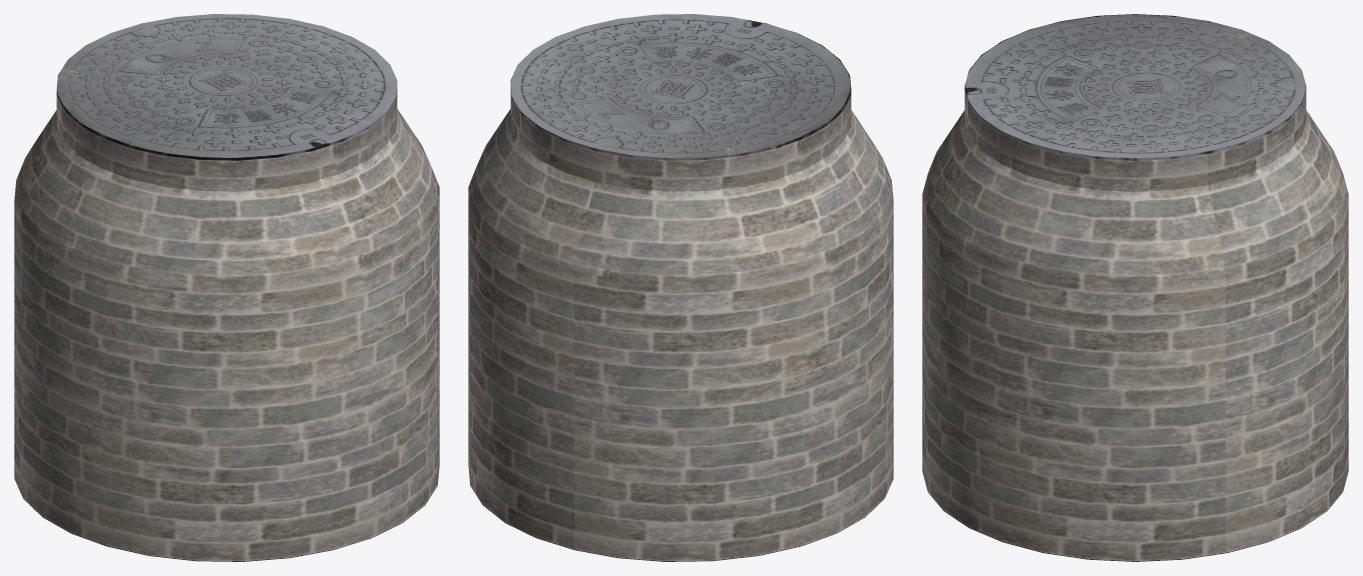
3 renders of one model, left to right at view 1: azimuth 30°, elevation 25°; view 2: azimuth 150°, elevation 25°; view 3: azimuth 270°, elevation 25°, orthographic.
Visible parts, largest first — view 1: Cylinder002.001; view 2: Cylinder002.001; view 3: Cylinder002.001.
Part boxes in pixels (x1,y1,x2,y2): Cylinder002.001: (14,14,439,561); Cylinder002.001: (468,14,893,561); Cylinder002.001: (922,14,1348,561).
Size of the model in its own units: 2.49 by 2.49 by 2.49.
2 materials, 2 textured.
